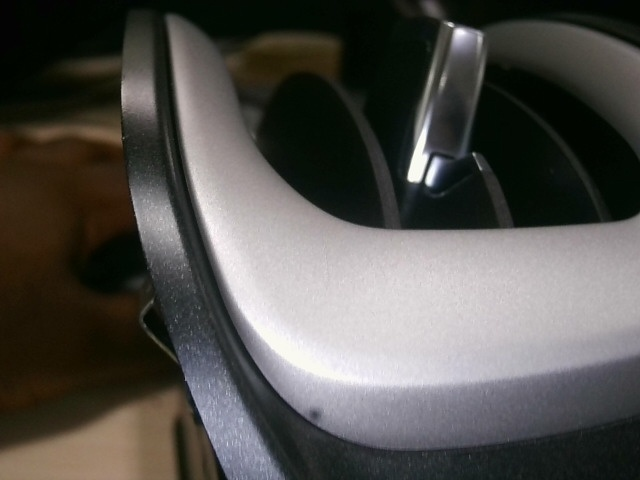NG: (315, 234, 341, 296), (115, 112, 140, 154)
